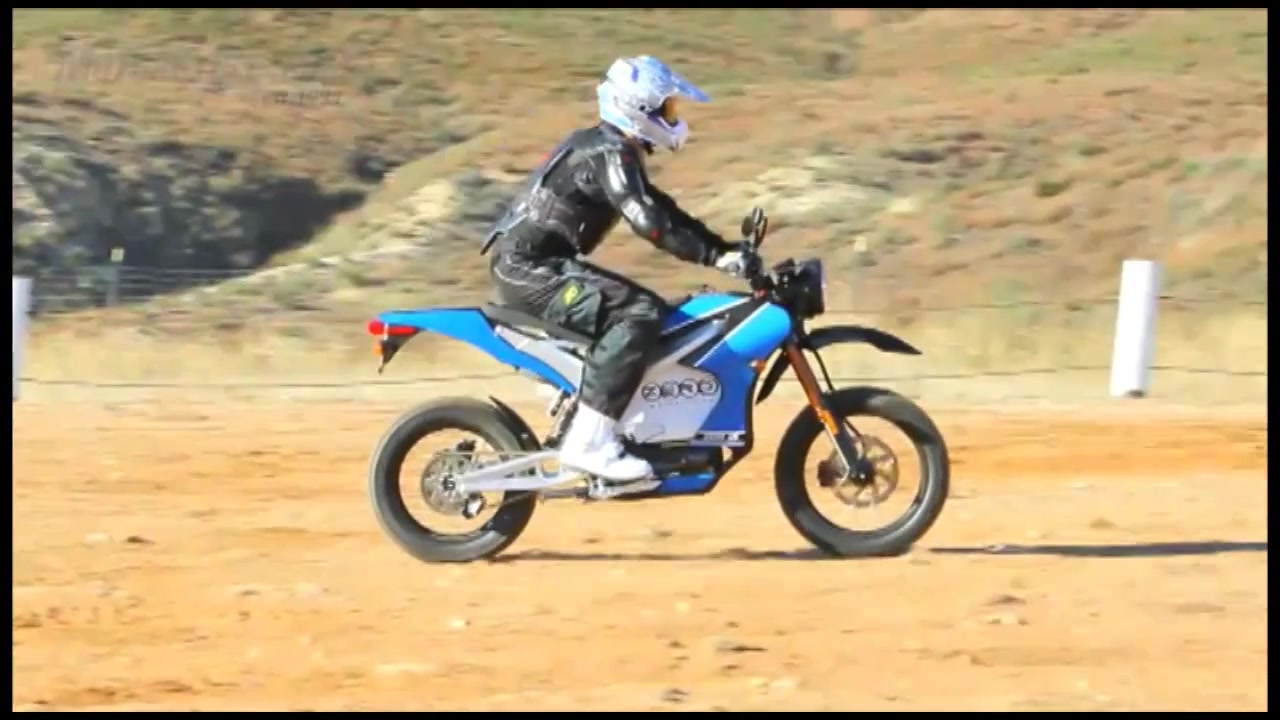motorbike: (366, 206, 954, 567)
